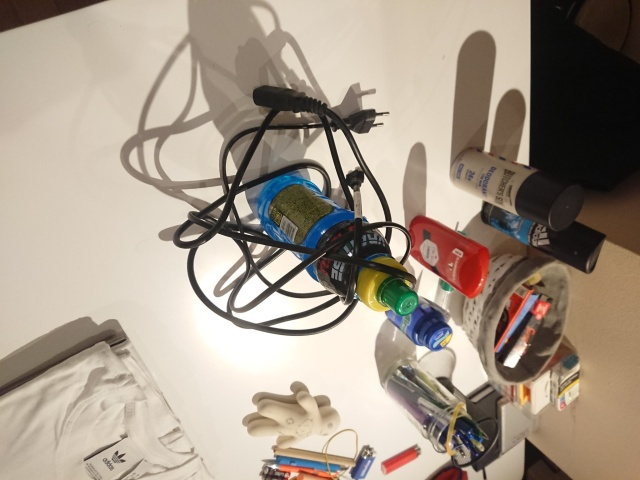Vindi Iso Sport Forest Strawberries 500mL: (255, 172, 420, 317)
